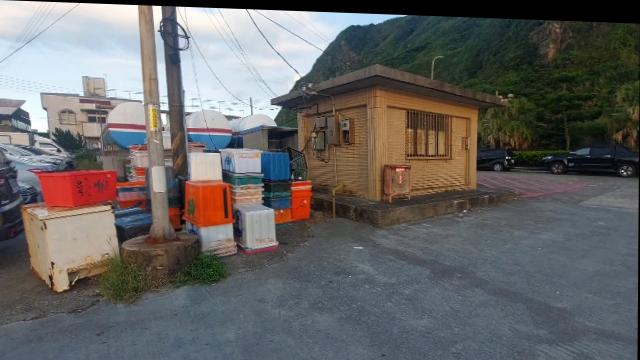pollute: (183, 145, 311, 255), (21, 200, 123, 292), (39, 169, 118, 206)
